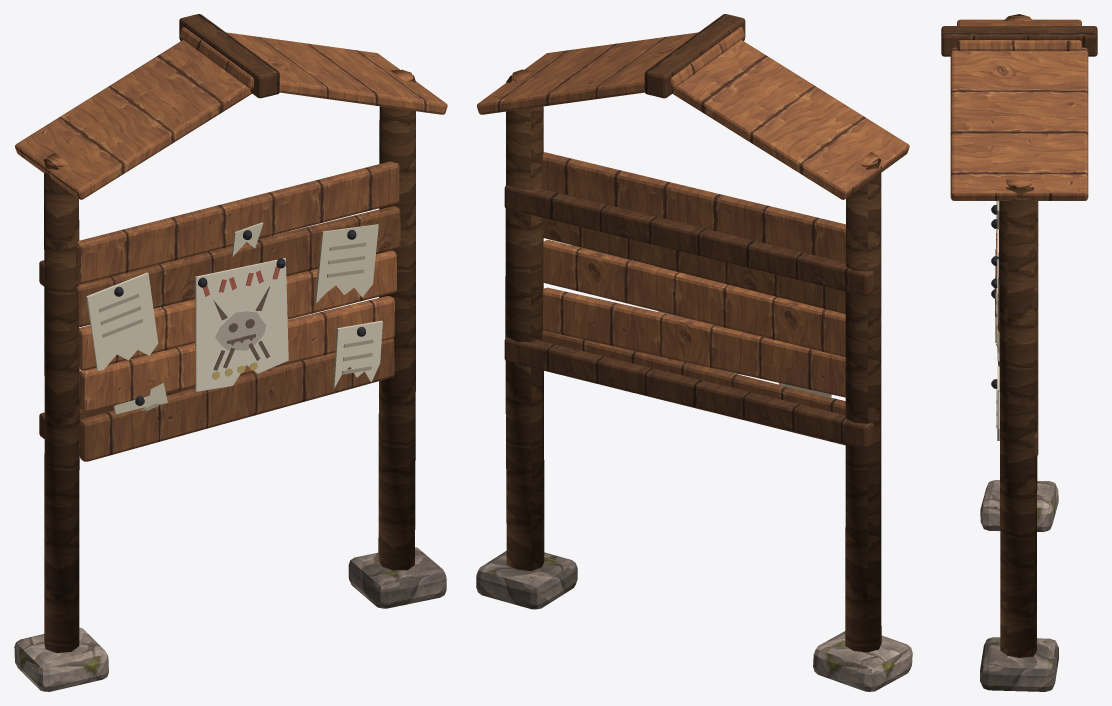
Rendered from notice_board_torn.glb.
3 views of the same model, side by side, from view 1: azimuth 30°, elevation 25°; view 2: azimuth 150°, elevation 25°; view 3: azimuth 270°, elevation 25° (orthographic). The views are drawn at different scales.
Parts seen in each view (by area): view 1: model; view 2: model; view 3: model.
Part boxes in pixels (x1,y1,x2,y2): model: [14, 14, 447, 691]; model: [476, 14, 912, 691]; model: [941, 14, 1097, 691].
Size of the model in its own units: 1.46 by 2.02 by 0.5.
Materials: 19 (9 with a texture image).
